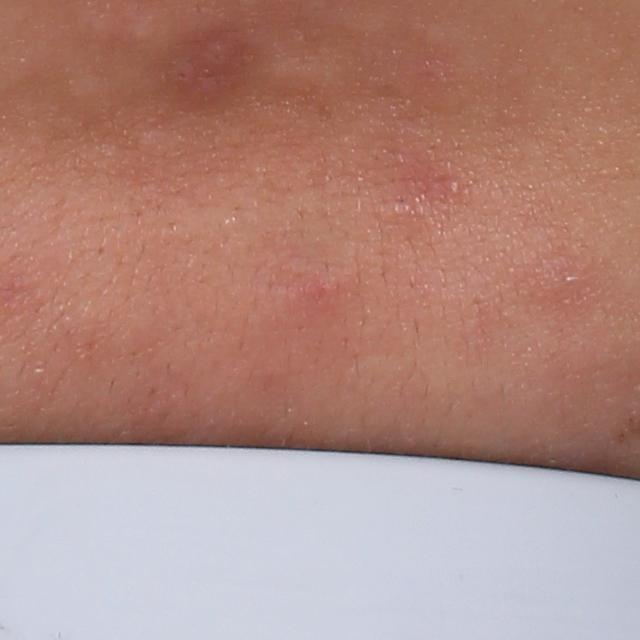hypertrophic_scar: (270, 46, 360, 104), (88, 10, 162, 45)
